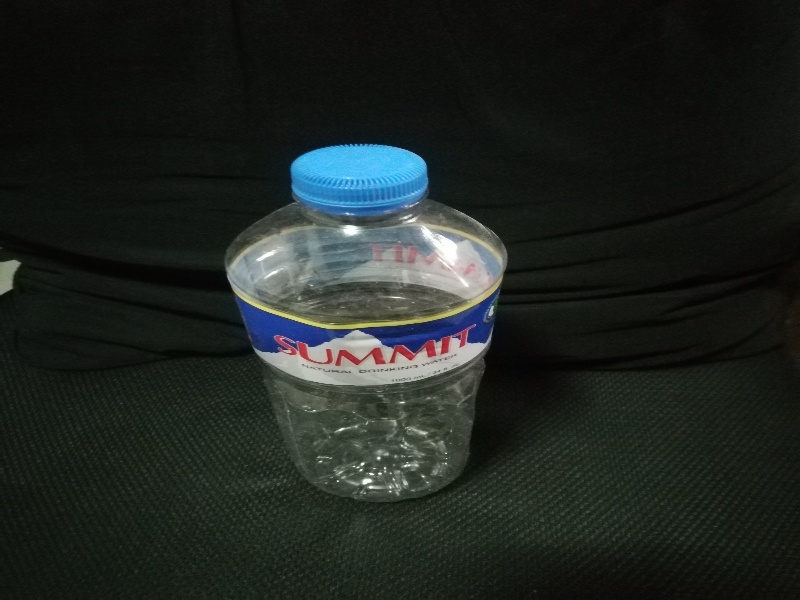PET #1: (223, 140, 508, 506)
